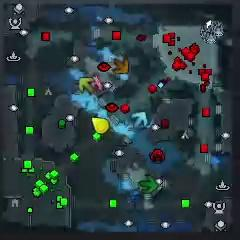p4: (91, 116, 109, 134)
x1: (91, 76, 104, 90)
x2: (79, 77, 93, 93)
x3: (132, 111, 148, 128)
x4: (139, 175, 158, 192)
x5: (113, 57, 129, 74)
